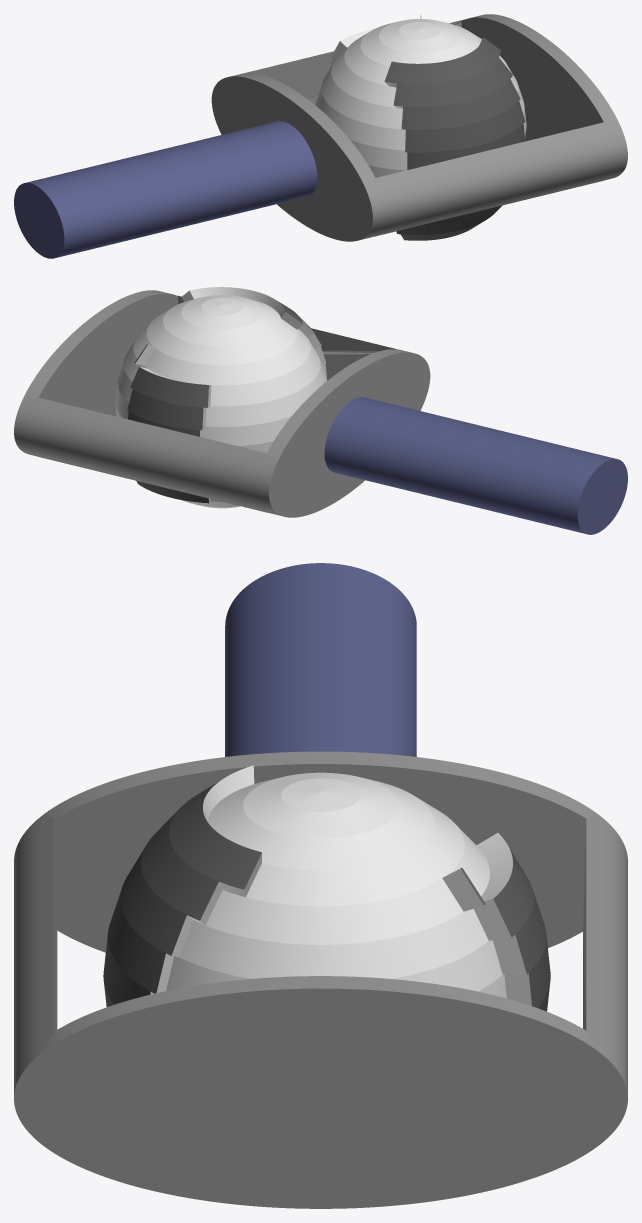
File: Tank(.fbx
The picture shows the model from 3 angles, top to bottom: view 1: azimuth 30°, elevation 25°; view 2: azimuth 150°, elevation 25°; view 3: azimuth 270°, elevation 25°; orthographic projection. The views are drawn at different scales.
Parts seen in each view (by area): view 1: Cylinder, Sphere, Cylinder.001; view 2: Cylinder, Sphere, Cylinder.001; view 3: Cylinder, Sphere, Cylinder.001.
Part boxes in pixels (<box>): Cylinder: <box>211,14,627,241</box>; Sphere: <box>315,14,526,240</box>; Cylinder.001: <box>14,121,317,258</box>; Cylinder: <box>14,290,430,517</box>; Sphere: <box>115,287,327,508</box>; Cylinder.001: <box>324,397,627,534</box>; Cylinder: <box>14,751,627,1208</box>; Sphere: <box>103,765,550,1011</box>; Cylinder.001: <box>225,563,416,756</box>.
Bounding box in the file's own units: 63.64 × 23.15 × 34.96.
